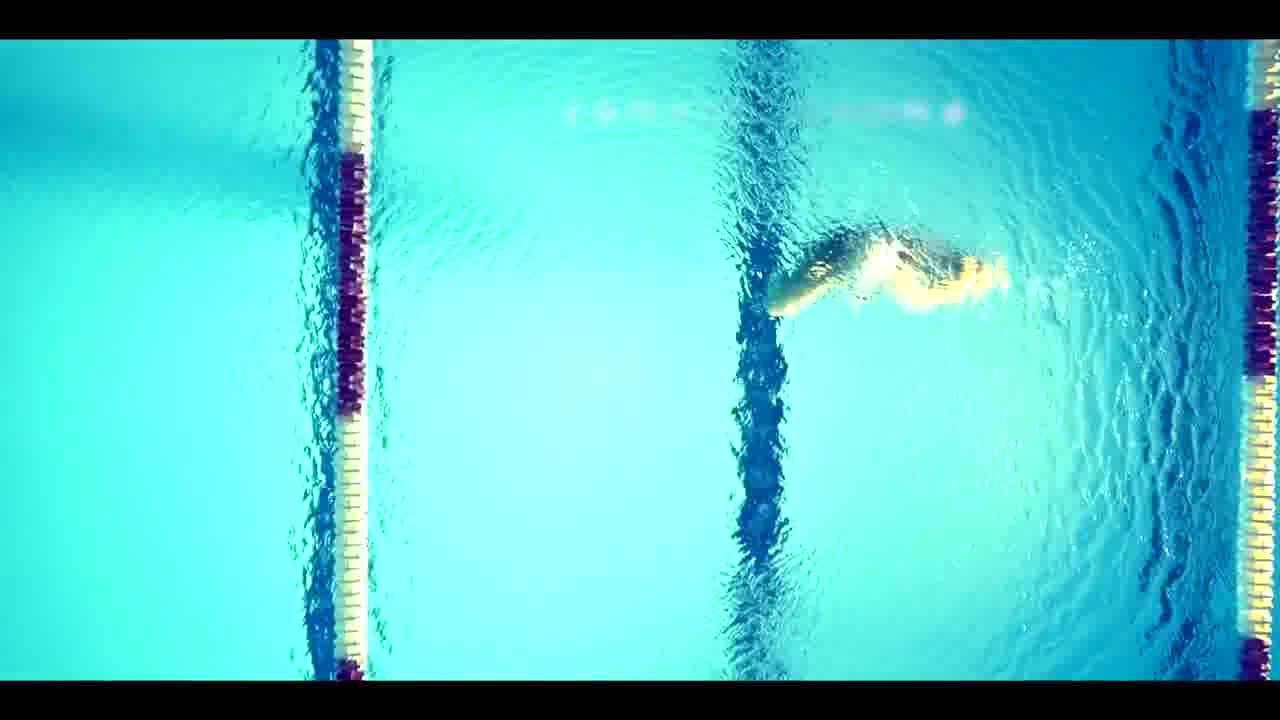human: (733, 195, 1000, 334)
